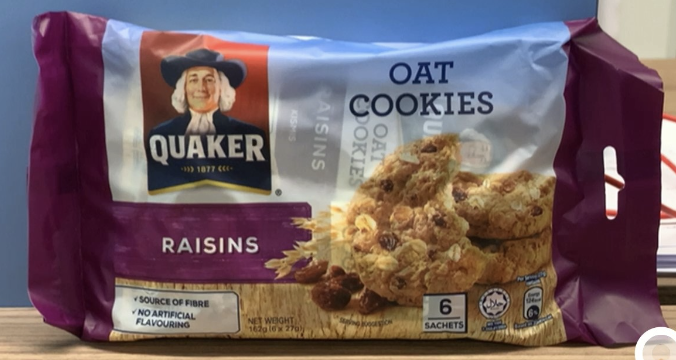cookies_100g-199g: (114, 51, 551, 333)
